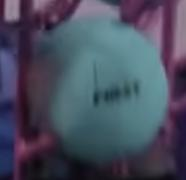algae: (29, 16, 168, 163)
